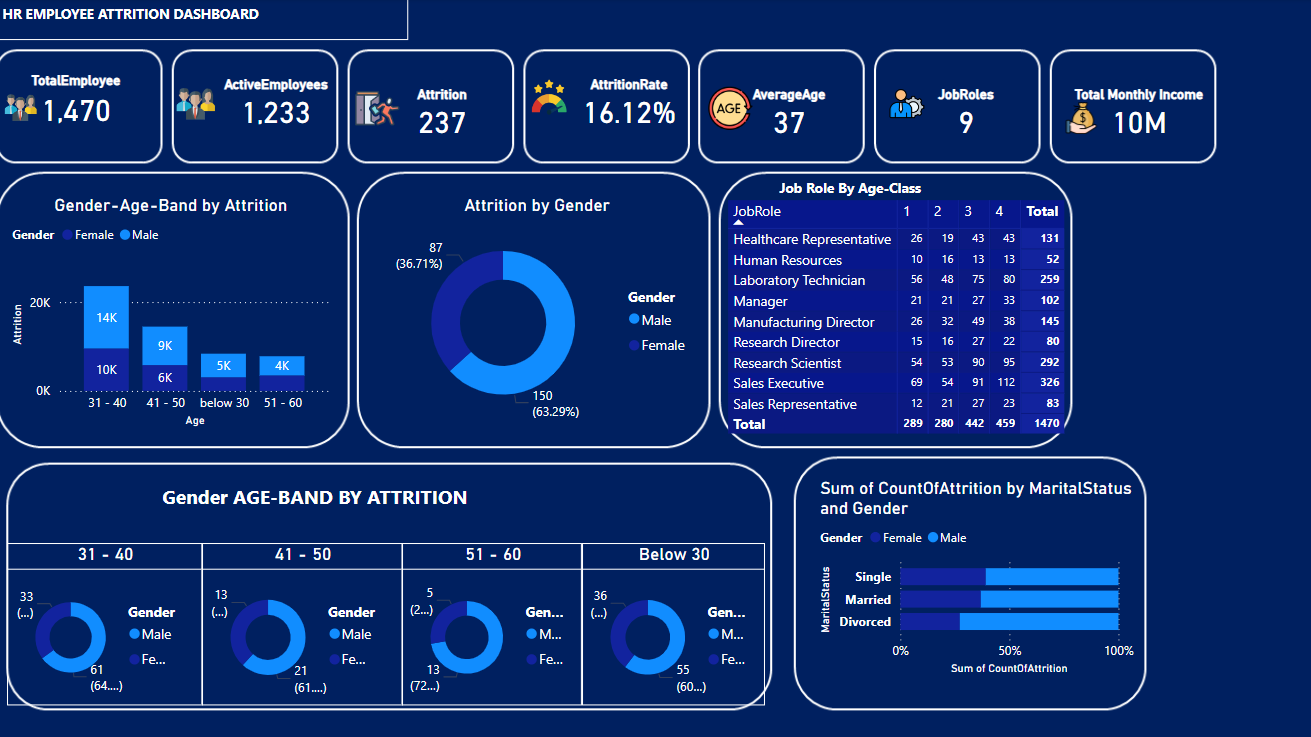

The page's visual inventory and layout, read from the dashboard file:
{"tool":"powerbi","page":{"name":"Page 1","canvas":[1280,720],"ordinal":0},"visuals":[{"type":"card","title":"TotalEmployee","fields":{"Values":["HR-Employee-Attrition.TotalEmployee"]},"box":[17.5,72,118.7,54.5],"z":0},{"type":"card","title":"Total Monthly Income","fields":{"Values":["HR-Employee-Attrition.Total Monthly Income"]},"box":[1040.7,85.6,140.1,50.6],"z":1000},{"type":"textbox","box":[0,0,397.8,32.1],"z":2000},{"type":"card","title":"ActiveEmployees","fields":{"Values":["HR-Employee-Attrition.ActiveEmployees"]},"box":[214,75.9,114.8,50.6],"z":3000},{"type":"card","title":"AttritionRate","fields":{"Values":["HR-Employee-Attrition.AttritionRate"]},"box":[560.2,75.9,108.9,50.6],"z":4000},{"type":"card","title":"Attrition","fields":{"Values":["Sum(HR-Employee-Attrition.CountOfAttrition)"]},"box":[375.7,85.9,114.8,50.6],"z":5000},{"type":"card","title":"AverageAge","fields":{"Values":["HR-Employee-Attrition.AverageAge"]},"box":[713.2,85.9,114.8,50.6],"z":6000},{"type":"card","title":"JobRoles","fields":{"Values":["HR-Employee-Attrition.CountOfJobRoles"]},"box":[885.1,85.6,114.8,50.6],"z":7000},{"type":"columnChart","title":"Gender-Age-Band by Attrition","fields":{"Category":["HR-Employee-Attrition.AgeClass"],"Y":["Sum(HR-Employee-Attrition.Age)"],"Series":["HR-Employee-Attrition.Gender"]},"box":[9.7,190.6,319,229.5],"z":8000},{"type":"donutChart","title":"Attrition by Gender","fields":{"Category":["HR-Employee-Attrition.Gender"],"Y":["Sum(HR-Employee-Attrition.CountOfAttrition)"]},"box":[365.7,190.6,319,229.5],"z":9000},{"type":"pivotTable","title":"Job-Roles by Job Satisfaction","fields":{"Rows":["HR-Employee-Attrition.JobRole"],"Columns":["HR-Employee-Attrition.JobSatisfaction"],"Values":["Sum(HR-Employee-Attrition.EmployeeCount)"]},"box":[706.1,190.6,342.4,243.2],"z":10000},{"type":"donutChart","title":"41 - 50","fields":{"Category":["HR-Employee-Attrition.Gender"],"Y":["Sum(HR-Employee-Attrition.CountOfAttrition)"]},"box":[199.4,529.1,194.5,157.6],"z":11000},{"type":"donutChart","title":"31 - 40","fields":{"Category":["HR-Employee-Attrition.Gender"],"Y":["Sum(HR-Employee-Attrition.CountOfAttrition)"]},"box":[9.7,529.1,189.7,157.6],"z":12000},{"type":"donutChart","title":"51 - 60","fields":{"Category":["HR-Employee-Attrition.Gender"],"Y":["Sum(HR-Employee-Attrition.CountOfAttrition)"]},"box":[393.9,529.1,175.1,157.6],"z":13000},{"type":"donutChart","title":"Below 30","fields":{"Category":["HR-Employee-Attrition.Gender"],"Y":["Sum(HR-Employee-Attrition.CountOfAttrition)"]},"box":[569,529.1,178,157.6],"z":14000},{"type":"textbox","box":[155.6,465.9,352.1,44.7],"z":15000},{"type":"hundredPercentStackedBarChart","fields":{"Category":["HR-Employee-Attrition.MaritalStatus"],"Y":["Sum(HR-Employee-Attrition.CountOfAttrition)"],"Series":["HR-Employee-Attrition.Gender"]},"box":[795.6,465.9,315.1,195.5],"z":16000},{"type":"image","box":[0,84.6,45.7,41.8],"z":17000},{"type":"image","box":[341.4,79.8,56.4,52.5],"z":18000},{"type":"image","box":[1026.1,95.3,57.4,40.9],"z":19000},{"type":"image","box":[514.5,72.9,45.7,44.7],"z":20000},{"type":"image","box":[169.2,75.9,47.7,52.5],"z":21000},{"type":"image","box":[682.8,79.8,60.3,52.5],"z":22000},{"type":"image","box":[853.3,80,63.3,44.4],"z":23000},{"type":"textbox","box":[755.7,169.2,244.1,28.2],"z":24000}]}

Visuals, with their boxes in screenshot pixels (x1, y1, x2, y2), scaled from the page's 1280x720 canvas onto the 1311x737 screenshot:
"TotalEmployee" card: left=18, top=74, right=139, bottom=129
"Total Monthly Income" card: left=1066, top=88, right=1209, bottom=139
textbox: left=0, top=0, right=407, bottom=33
"ActiveEmployees" card: left=219, top=78, right=337, bottom=129
"AttritionRate" card: left=574, top=78, right=685, bottom=129
"Attrition" card: left=385, top=88, right=502, bottom=140
"AverageAge" card: left=730, top=88, right=848, bottom=140
"JobRoles" card: left=907, top=88, right=1024, bottom=139
"Gender-Age-Band by Attrition" columnChart: left=10, top=195, right=337, bottom=430
"Attrition by Gender" donutChart: left=375, top=195, right=701, bottom=430
"Job-Roles by Job Satisfaction" pivotTable: left=723, top=195, right=1074, bottom=444
"41 - 50" donutChart: left=204, top=542, right=403, bottom=703
"31 - 40" donutChart: left=10, top=542, right=204, bottom=703
"51 - 60" donutChart: left=403, top=542, right=583, bottom=703
"Below 30" donutChart: left=583, top=542, right=765, bottom=703
textbox: left=159, top=477, right=520, bottom=523
hundredPercentStackedBarChart - HR-Employee-Attrition.MaritalStatus x Sum(HR-Employee-Attrition.CountOfAttrition): left=815, top=477, right=1138, bottom=677
image: left=0, top=87, right=47, bottom=129
image: left=350, top=82, right=407, bottom=135
image: left=1051, top=98, right=1110, bottom=139
image: left=527, top=75, right=574, bottom=120
image: left=173, top=78, right=222, bottom=131
image: left=699, top=82, right=761, bottom=135
image: left=874, top=82, right=939, bottom=127
textbox: left=774, top=173, right=1024, bottom=202
